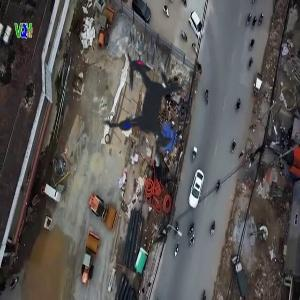drone: (49, 6, 244, 201)
